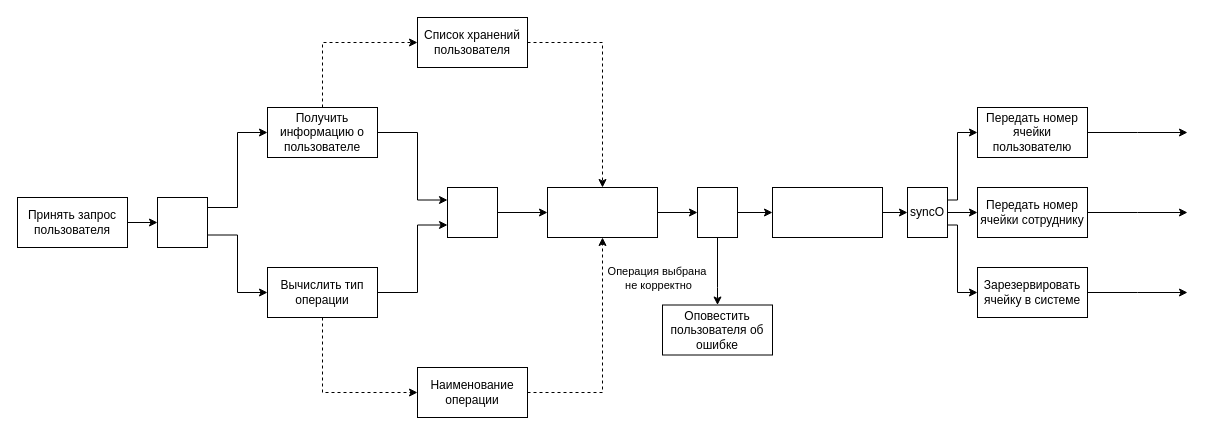
Image size: 1213x435. Some labels were removed from this diagram. The shapes that lost their labels are listed below. From the top down, each one's box as (x1, y1, x2, y2) in pixels, then its label:
(156, 196, 208, 248): sync&
(446, 186, 498, 238): async&
(546, 186, 658, 238): Проверить корректность операции
(696, 186, 738, 238): XOR
(772, 186, 882, 238): Вычислить номер запрашиваемой ячейки
